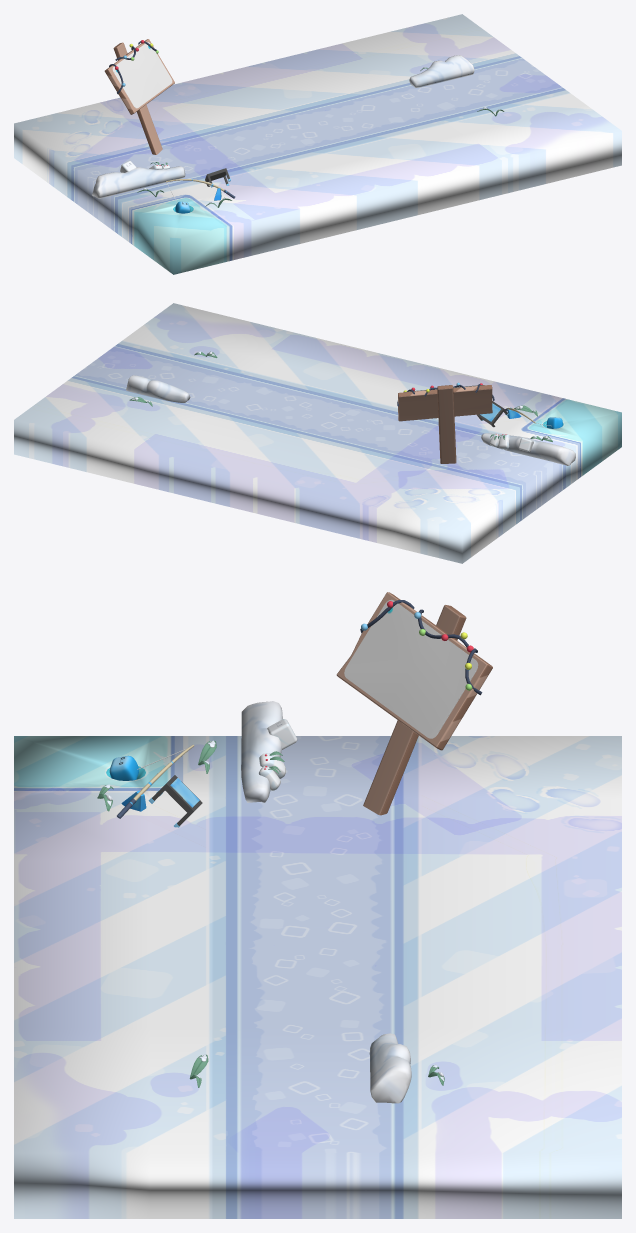
The model's file is S3_OutF_Field_004.fbx.
3 renders of one model, top to bottom at view 1: azimuth 30°, elevation 25°; view 2: azimuth 150°, elevation 25°; view 3: azimuth 270°, elevation 25°, orthographic. The views are drawn at different scales.
Visible parts, largest first — view 1: pCube391; view 2: pCube391; view 3: pCube391.
Boxes of the visible parts, x1,y1,x2,y2 form: pCube391: (14, 14, 621, 274); pCube391: (14, 303, 621, 563); pCube391: (14, 592, 621, 1218).
Size of the model in its own units: 13.97 by 3.78 by 8.33.
